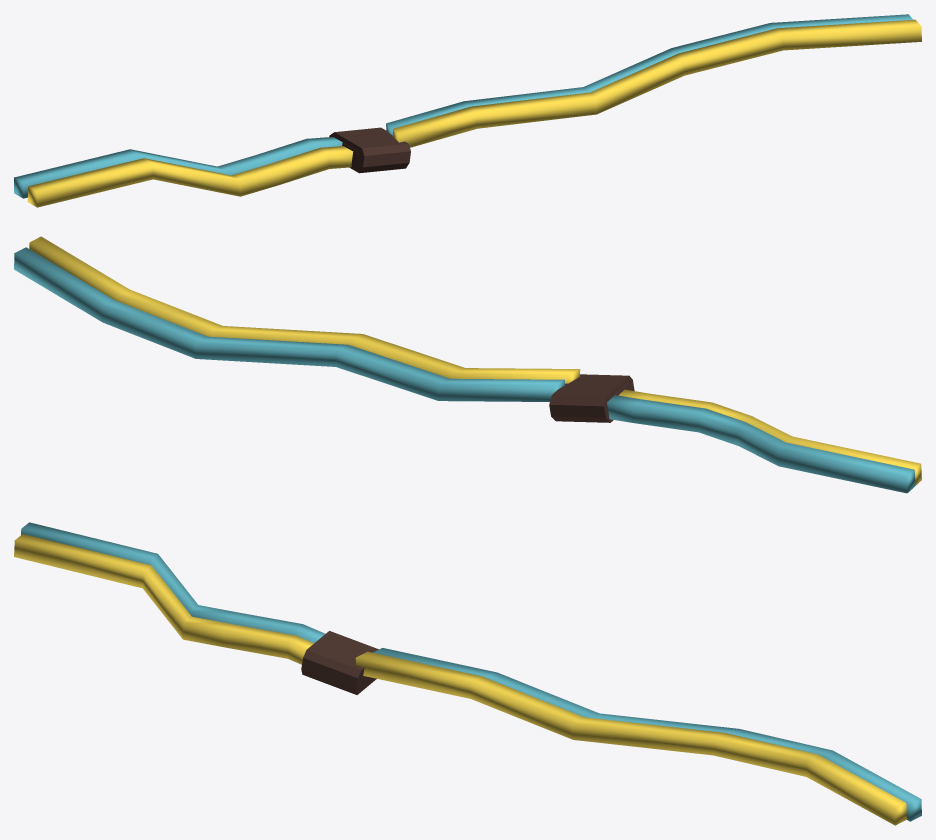
Rendered from Engine_cord1.fbx.
The picture shows the model from 3 angles, top to bottom: view 1: azimuth 30°, elevation 25°; view 2: azimuth 150°, elevation 25°; view 3: azimuth 330°, elevation 25°; orthographic projection. The views are drawn at different scales.
Parts seen in each view (by area): view 1: 立方体.146, 立方体.155, 立方体.137, 立方体.156, 立方体.035; view 2: 立方体.137, 立方体.146, 立方体.156, 立方体.035, 立方体.155; view 3: 立方体.146, 立方体.155, 立方体.137, 立方体.156, 立方体.035.
Boxes of the visible parts, box(x1,y1,x2,y2) form: 立方体.146: box(393, 19, 921, 147); 立方体.155: box(27, 146, 353, 207); 立方体.137: box(386, 14, 913, 135); 立方体.156: box(14, 137, 342, 198); 立方体.035: box(329, 127, 410, 173); 立方体.137: box(14, 247, 564, 401); 立方体.146: box(29, 236, 580, 383); 立方体.156: box(607, 395, 915, 493); 立方体.035: box(549, 374, 634, 422); 立方体.155: box(618, 389, 921, 485); 立方体.146: box(355, 651, 906, 825); 立方体.155: box(14, 534, 313, 664); 立方体.137: box(373, 648, 921, 821); 立方体.156: box(21, 522, 325, 643); 立方体.035: box(301, 631, 378, 694).
Bounding box in the file's own units: 1041 × 57.05 × 110.
